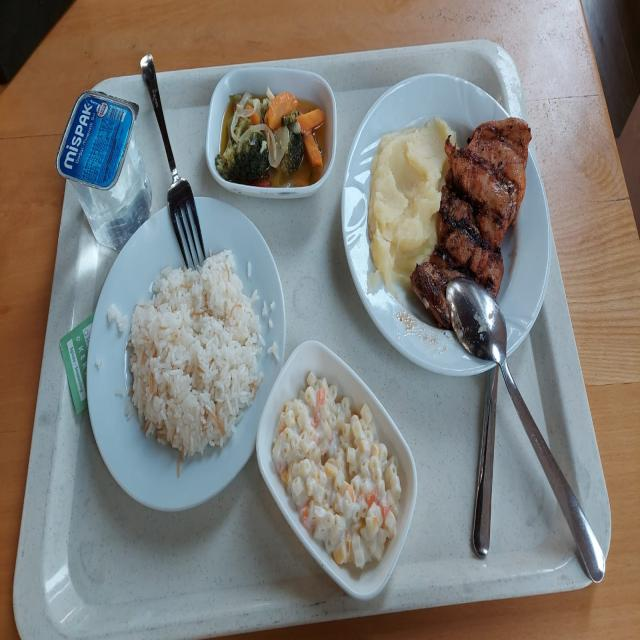ana_yemek: (358, 111, 533, 361), (109, 221, 258, 508)
yan_yemek: (269, 377, 410, 586), (208, 55, 333, 197)
